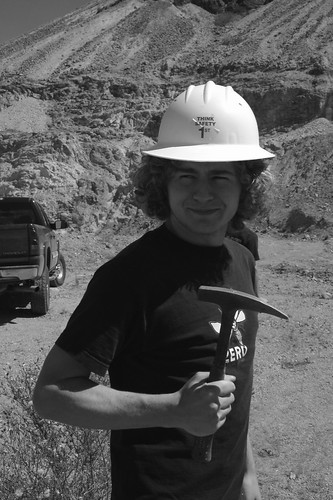person hardhat: (142, 80, 276, 234)
